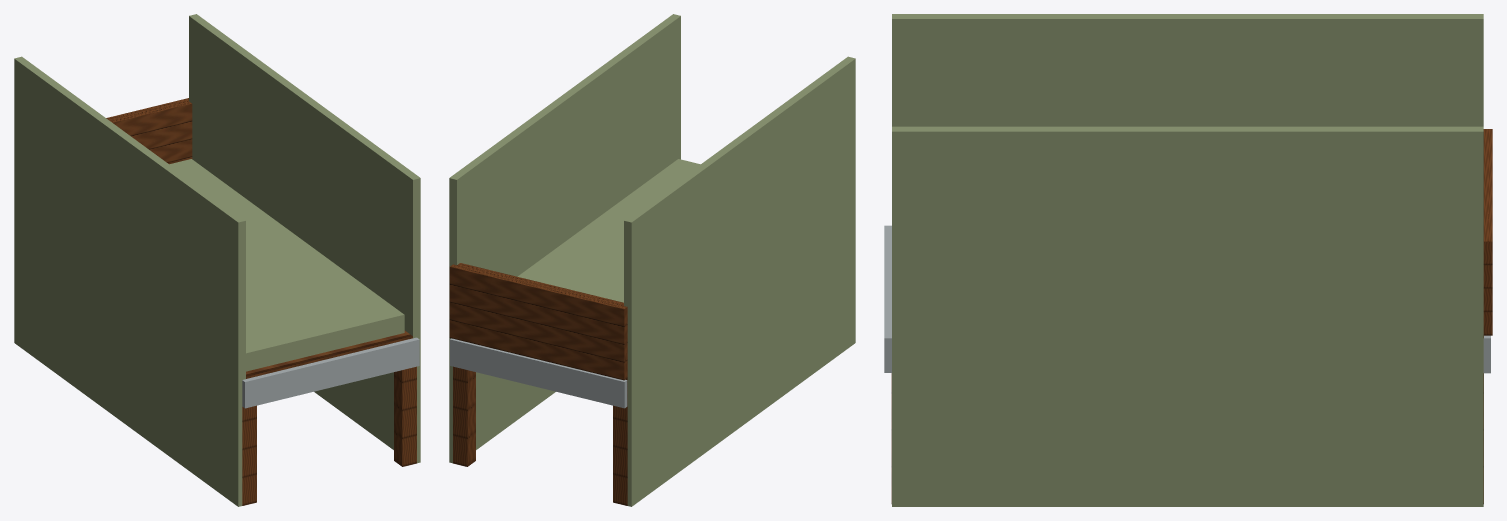
Rendered from bunker-shelter-construction-sleep-pod-privacy-frame-0a513025__23327.glb.
3 renders of one model, left to right at view 1: azimuth 30°, elevation 25°; view 2: azimuth 150°, elevation 25°; view 3: azimuth 270°, elevation 25°, orthographic. The views are drawn at different scales.
Parts seen in each view (by area): view 1: sleep-pod-privacy-frame; view 2: sleep-pod-privacy-frame; view 3: sleep-pod-privacy-frame.
Part boxes in pixels (<box>): sleep-pod-privacy-frame: <box>14,14,420,506</box>; sleep-pod-privacy-frame: <box>449,14,855,506</box>; sleep-pod-privacy-frame: <box>884,14,1492,506</box>.
Size of the model in its own units: 0.94 by 1.4 by 2.06.
Materials: 3 (1 with a texture image).
